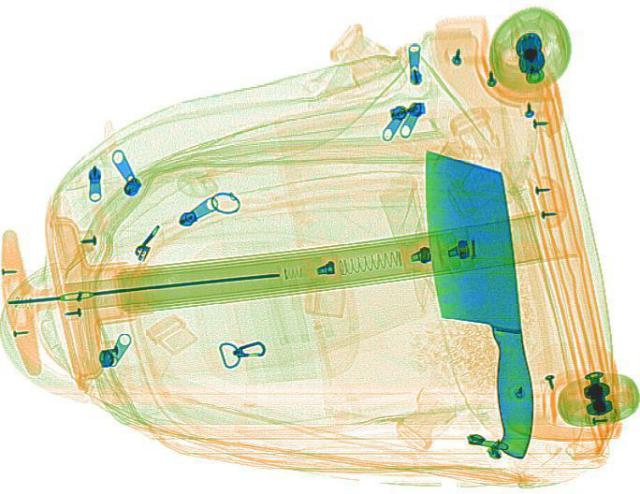Knife: (406, 142, 554, 463)
